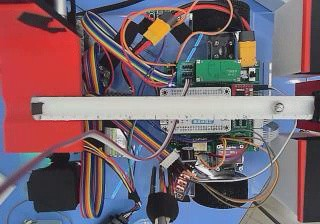ironball: (273, 101, 284, 113)
